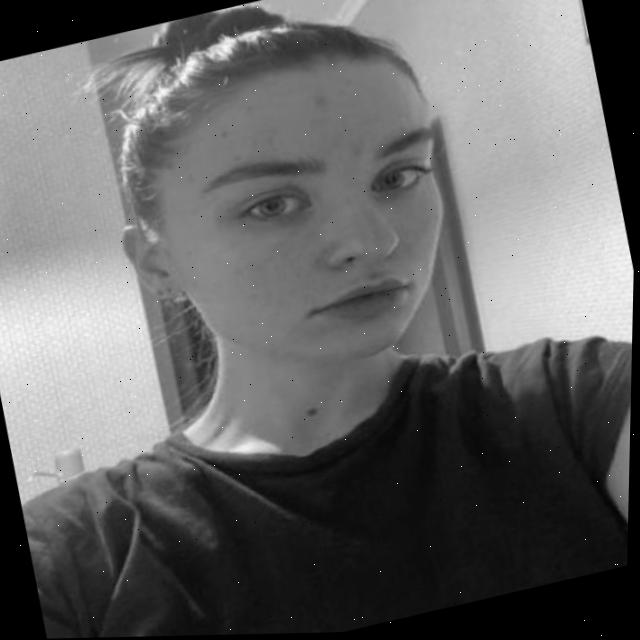Acne: (308, 90, 326, 111)
